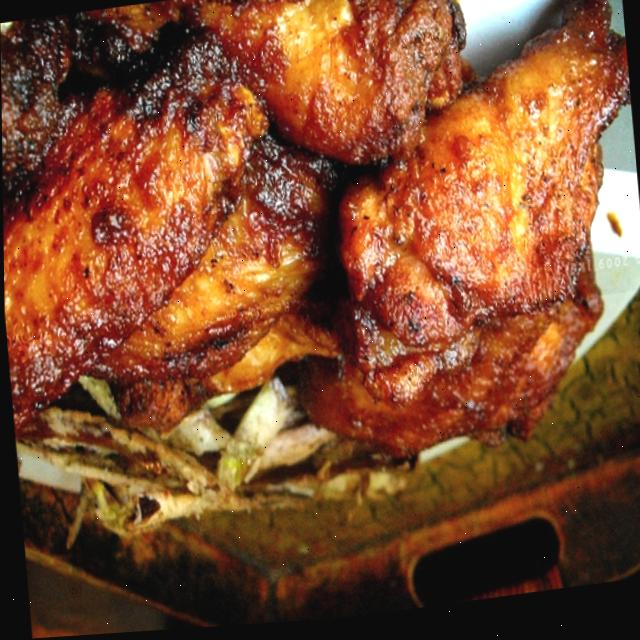鸡肉料理 含炸鸡: (0, 0, 620, 501)
